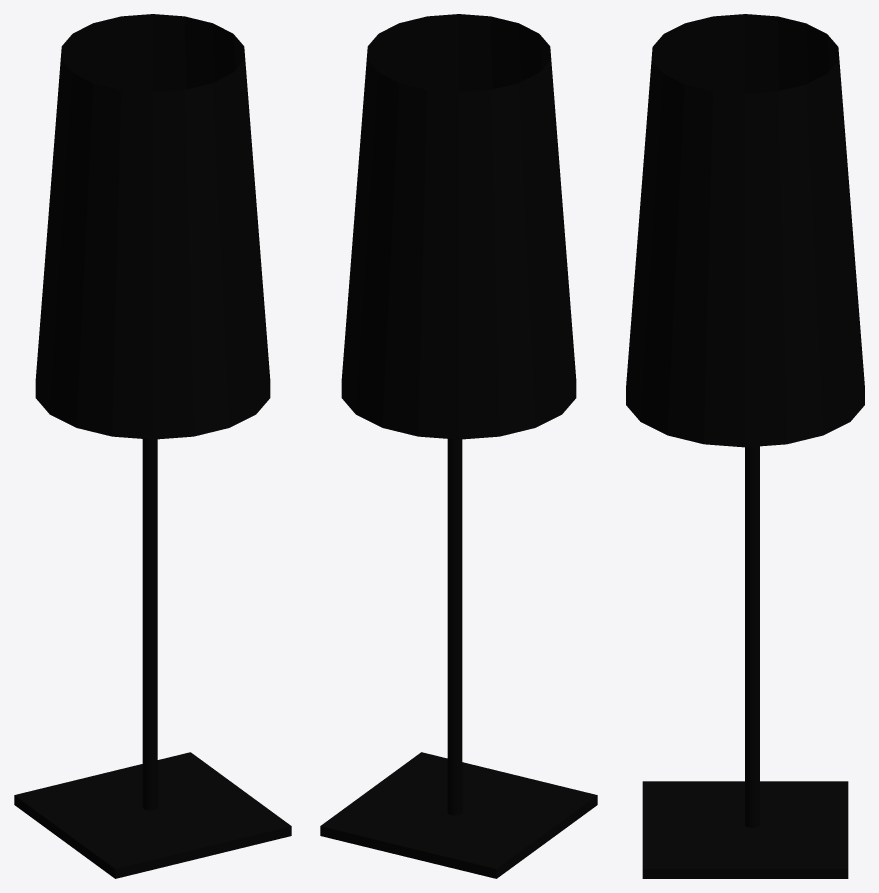
3 renders of one model, left to right at view 1: azimuth 30°, elevation 25°; view 2: azimuth 150°, elevation 25°; view 3: azimuth 270°, elevation 25°, orthographic.
Parts seen in each view (by area): view 1: IKEA-Skimra_Table_Lamp-3D; view 2: IKEA-Skimra_Table_Lamp-3D; view 3: IKEA-Skimra_Table_Lamp-3D.
Part boxes in pixels (box(x1,y1,x2,y2)): IKEA-Skimra_Table_Lamp-3D: box(14, 14, 291, 878); IKEA-Skimra_Table_Lamp-3D: box(320, 14, 597, 878); IKEA-Skimra_Table_Lamp-3D: box(626, 14, 864, 878).
Bounding box in the file's own units: 0.0945 × 0.3358 × 0.0931.
1 material, 1 textured.
